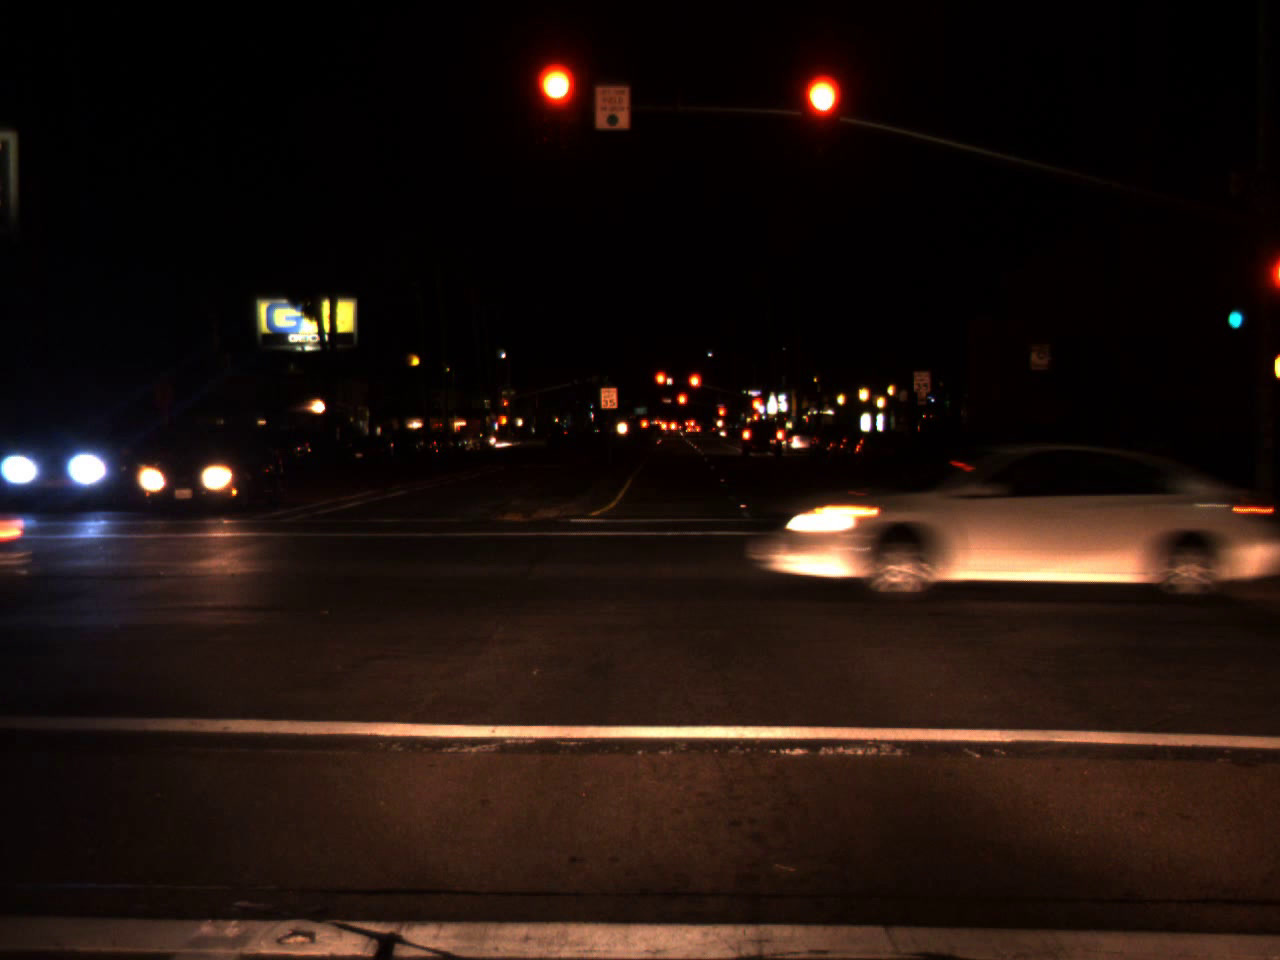stop: (537, 65, 577, 143), (802, 75, 842, 153), (686, 371, 702, 403), (653, 369, 668, 401), (750, 396, 763, 425), (676, 391, 688, 418), (717, 406, 726, 427), (503, 398, 509, 414)
